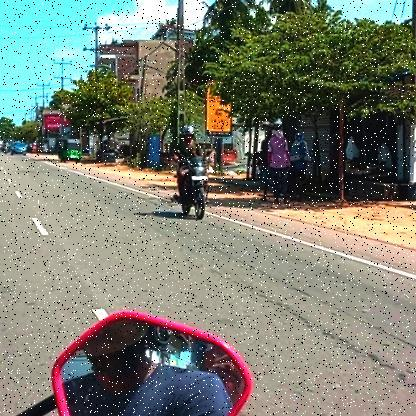motorcycle: (172, 154, 216, 222)
